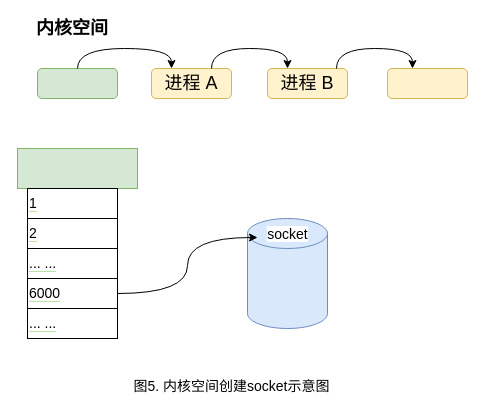
Image size: 485x418. Some labels were removed from this diagram. The shapes that lost their labels are listed below. From the top down, each one's box as (x1, y1, x2, y2) in pixels, then its label:
(36, 68, 118, 98): 工作队列
(386, 68, 468, 98): 进程 C
(16, 148, 138, 188): 文件列表(fd)
(246, 218, 328, 328): 发送缓冲区 接收缓冲区 等待列表...
